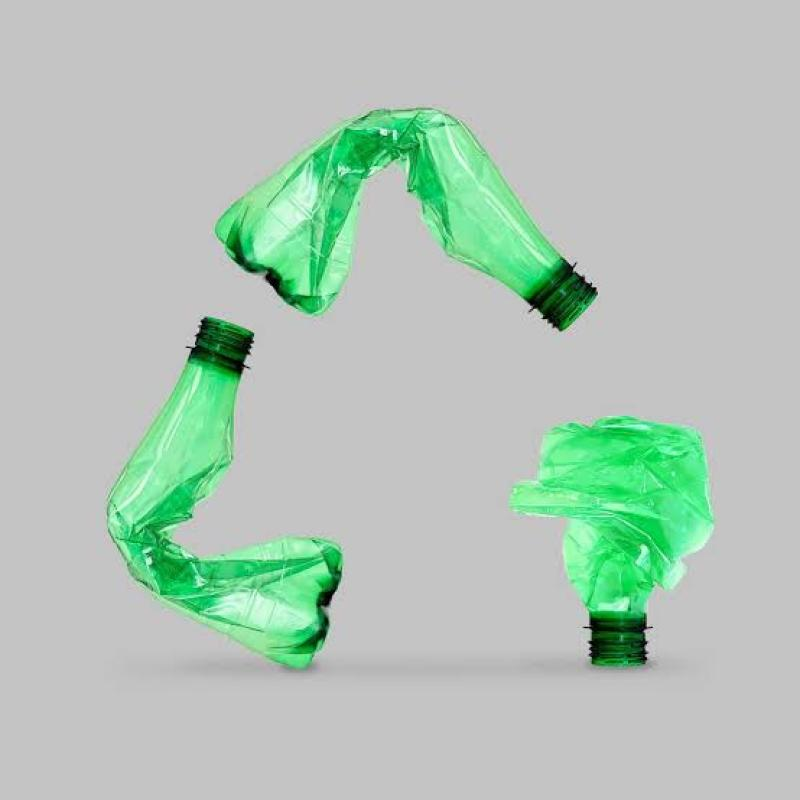plastic bottle: (212, 107, 596, 334), (105, 318, 344, 673), (507, 415, 716, 672)
